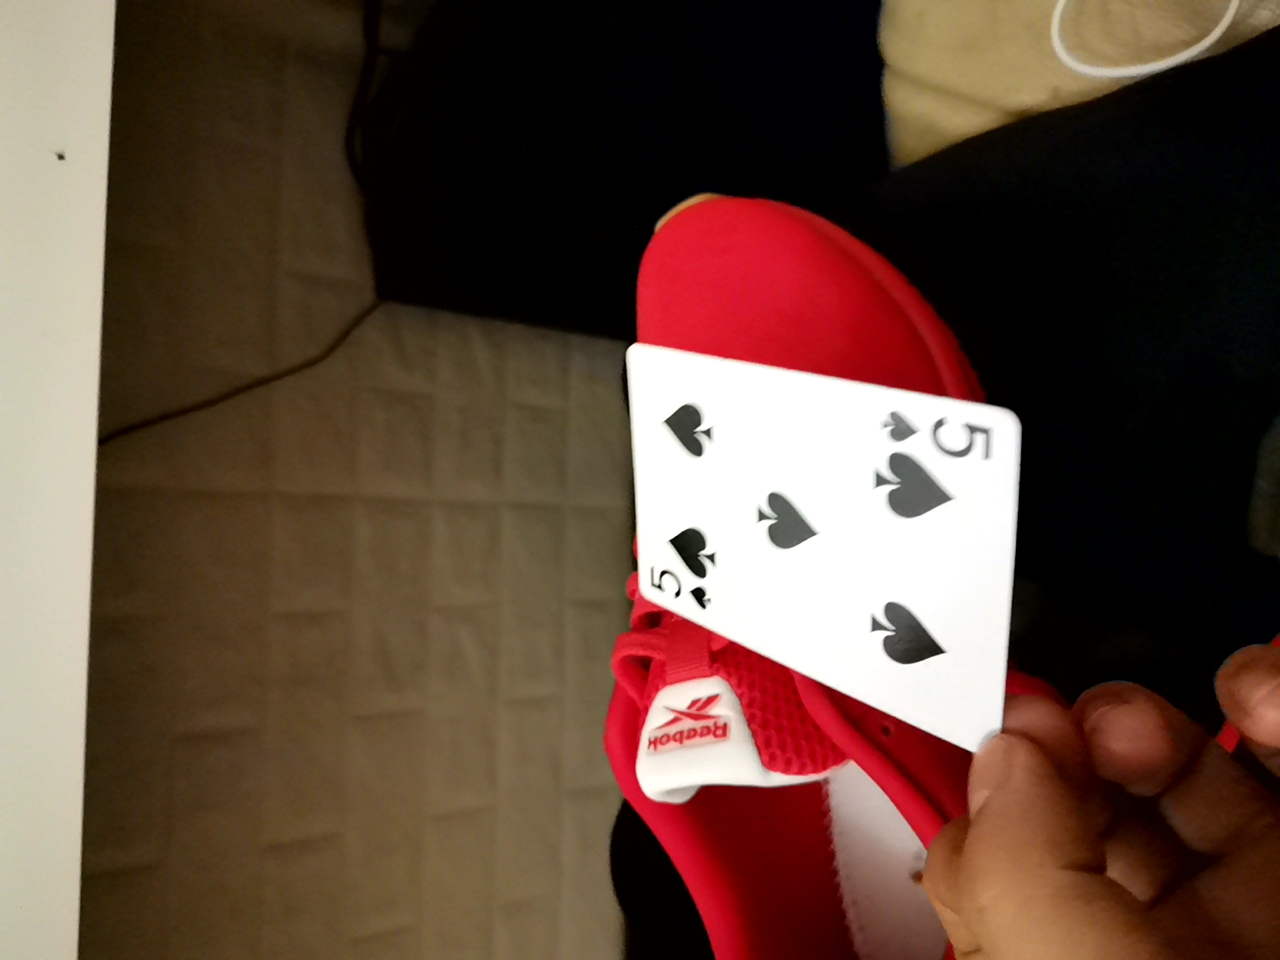ht 5: (627, 366, 989, 743)
